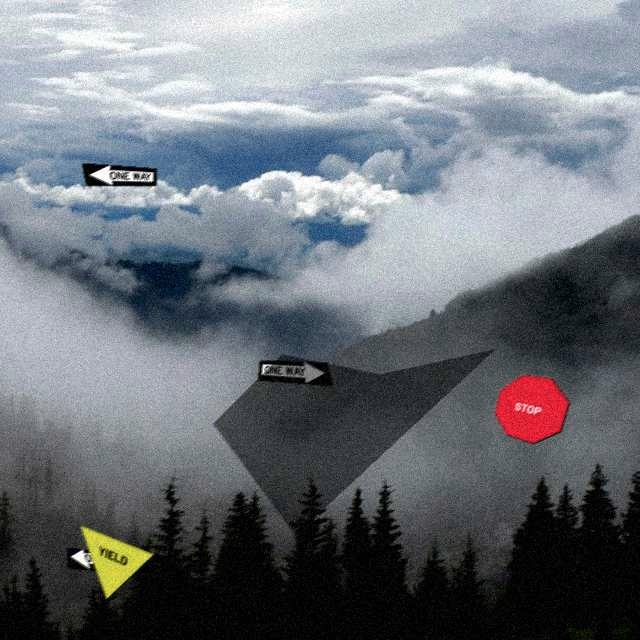ONE_WAY_ left: (66, 547, 142, 575), (81, 162, 157, 186)
ONE_WAY_ right: (257, 359, 333, 386)
STOP: (494, 374, 570, 444)
YIELD: (79, 524, 155, 600)
